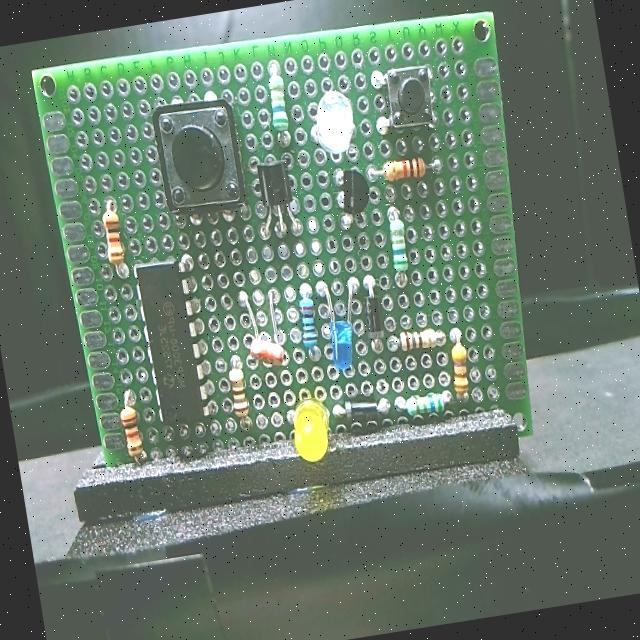IC: (129, 247, 224, 445)
cds: (232, 280, 294, 376)
diode: (356, 266, 392, 356), (328, 390, 395, 438)
led: (313, 271, 372, 378), (299, 82, 363, 168), (280, 386, 338, 472)
resistor: (255, 51, 299, 156), (284, 277, 332, 372), (366, 150, 456, 198), (376, 195, 419, 292), (110, 382, 154, 475), (220, 349, 260, 442), (94, 191, 132, 288), (392, 384, 460, 437), (442, 321, 478, 406), (382, 322, 449, 366)
switch: (140, 84, 260, 235), (362, 59, 446, 144)
transistor: (245, 152, 308, 250), (324, 155, 382, 242)
